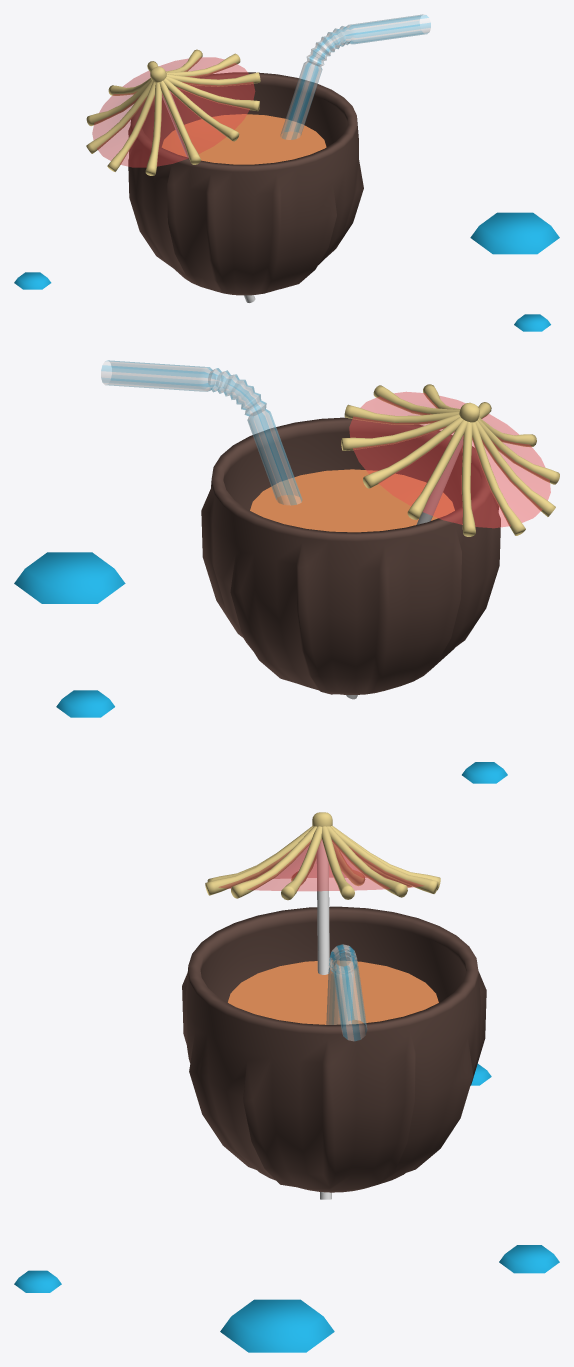
The model's file is 104-sum2mer.glb.
The picture shows the model from 3 angles, top to bottom: view 1: azimuth 30°, elevation 25°; view 2: azimuth 150°, elevation 25°; view 3: azimuth 270°, elevation 25°; orthographic projection. The views are drawn at different scales.
Parts seen in each view (by area): view 1: Sphere, Circle, Circle.014, Vert, Circle.015, Circle.004, Circle.007, Circle.008, Circle.005, Circle.003, Circle.006, Circle.009 (+4 smaller); view 2: Sphere, Circle, Circle.014, Vert, Circle.015, Circle.016, Circle.013, Circle.009, Circle.012, Circle.010, Circle.008, Circle.011 (+6 smaller); view 3: Sphere, Circle.014, Circle.015, Circle, Vert, Vert.002, Circle.016, Circle.012, Circle.005, Circle.004, Circle.013, Circle.017 (+2 smaller).
Boxes of the visible parts, x1,y1,x2,y2 form: Sphere: (128,72,363,295); Circle: (92,57,255,167); Circle.014: (162,114,326,164); Vert: (280,14,430,139); Circle.015: (470,212,559,254); Circle.004: (166,76,259,111); Circle.007: (145,82,162,175); Circle.008: (107,81,155,171); Circle.005: (163,78,239,141); Circle.003: (166,72,260,86); Circle.006: (159,80,200,164); Circle.009: (86,80,152,153); Sphere: (201,417,500,694); Circle: (349,391,550,528); Circle.014: (250,469,454,532); Vert: (101,360,302,505); Circle.015: (14,552,125,603); Circle.016: (56,690,114,717); Circle.013: (341,413,460,450); Circle.009: (472,421,525,535); Circle.012: (363,416,462,488); Circle.010: (461,421,475,536); Circle.008: (476,420,555,516); Circle.011: (407,419,467,519); Sphere: (182,906,486,1192); Circle.014: (228,960,438,1024); Circle.015: (220,1299,334,1352); Circle: (219,839,423,891); Vert: (326,944,367,1040); Vert.002: (316,840,331,1199); Circle.016: (499,1245,559,1273); Circle.012: (331,826,438,893); Circle.005: (205,826,313,895); Circle.004: (231,826,316,898); Circle.013: (327,826,407,897); Circle.017: (14,1270,61,1292).
Size of the model in its own units: 4.21 by 2.28 by 3.41.
